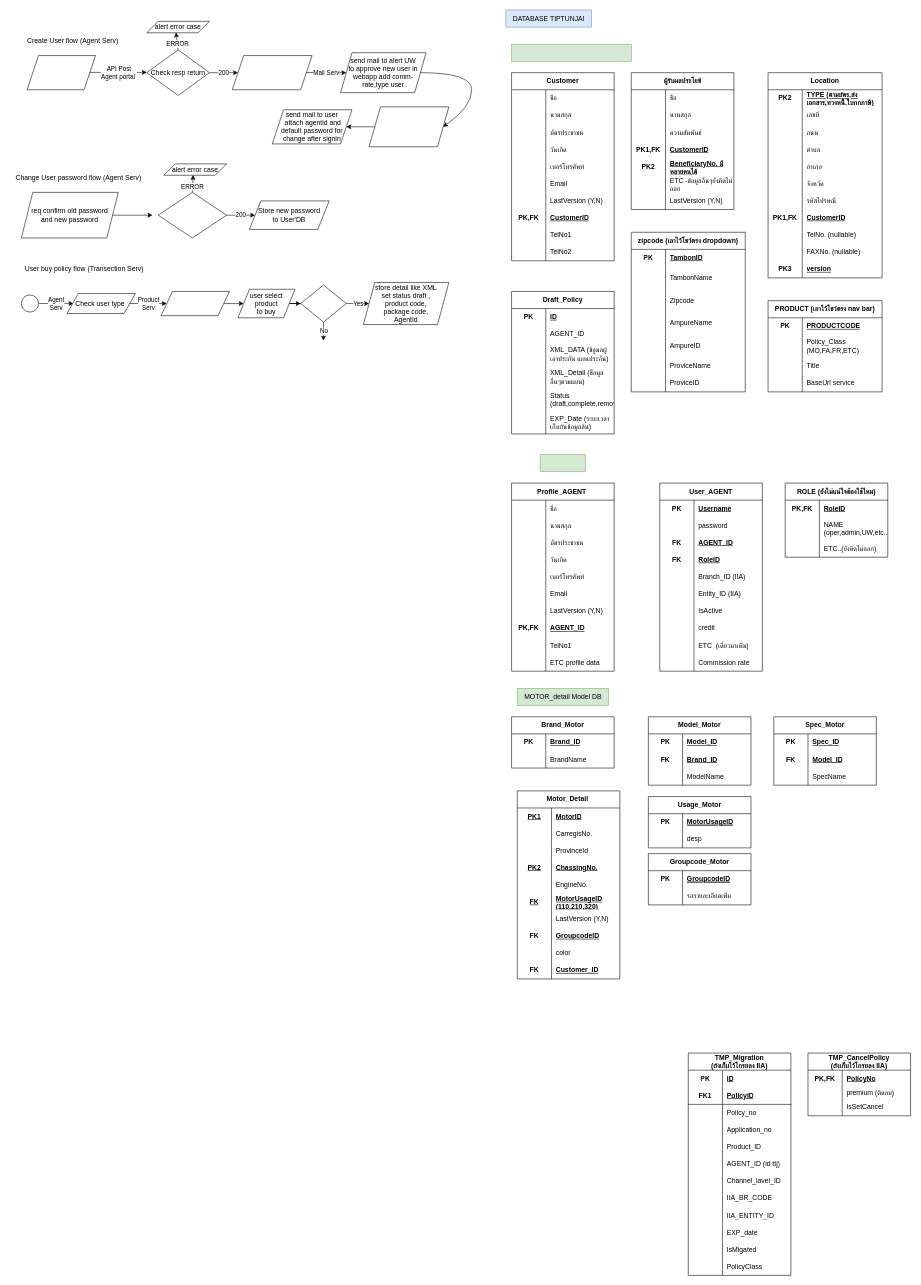
Some shapes in this 921 by 1285 pixel diagram are drawn without their labels. The centre of each missing label's shape, as x and y in pixels:
Add new data like comm-rate, type and change status in UserDB: (x=409, y=126)
Check user/password in UserDB: (x=192, y=215)
draft policy: (x=323, y=303)
MAIN FOR SEARCH and QUERY: (x=571, y=52)
req user's data from webapp: (x=61, y=72)
resp Product list relate with user type: (x=194, y=303)
Store to User'DB gen default agentid password Status W8 approve: (x=272, y=72)
USER DB: (x=563, y=463)
